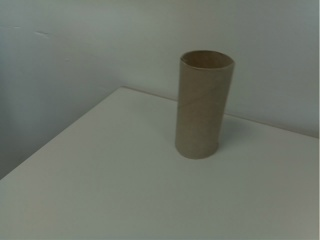rollo papel: (173, 50, 238, 162)
